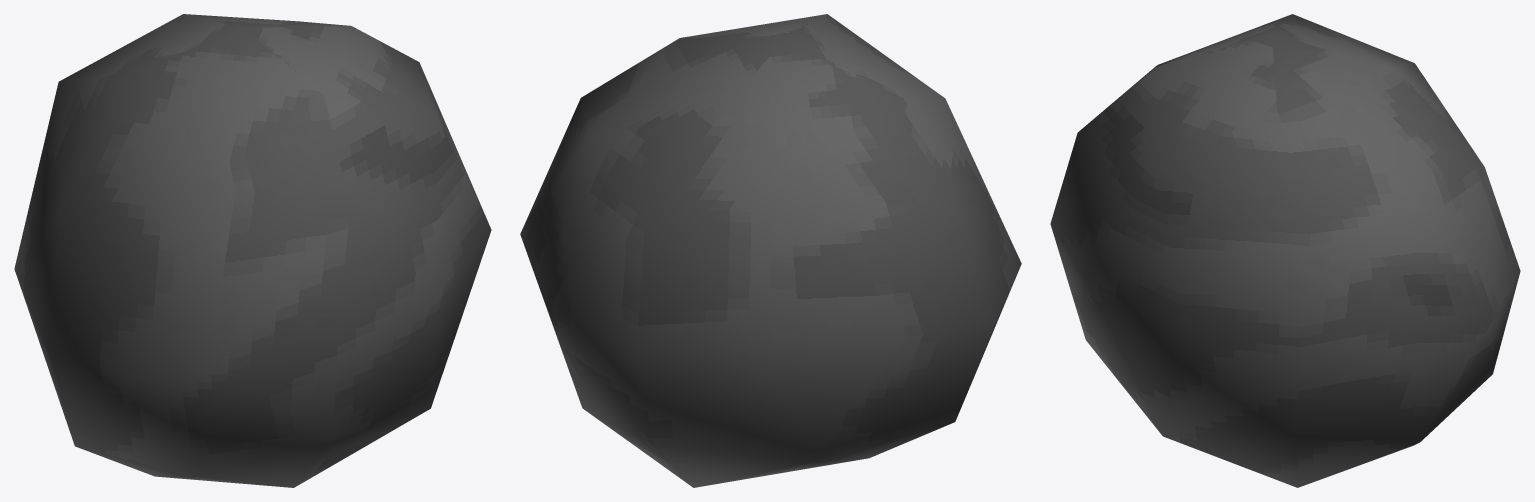
Rendered from Boulder.FBX.
The picture shows the model from 3 angles, left to right: view 1: azimuth 30°, elevation 25°; view 2: azimuth 150°, elevation 25°; view 3: azimuth 270°, elevation 25°; orthographic projection. The views are drawn at different scales.
Parts seen in each view (by area): view 1: GeoSphere01; view 2: GeoSphere01; view 3: GeoSphere01.
Part boxes in pixels (x1,y1,x2,y2): GeoSphere01: (14,14,491,487); GeoSphere01: (520,14,1021,487); GeoSphere01: (1050,14,1520,487).
Size of the model in its own units: 200 by 200 by 200.
Materials: 1 (1 with a texture image).
